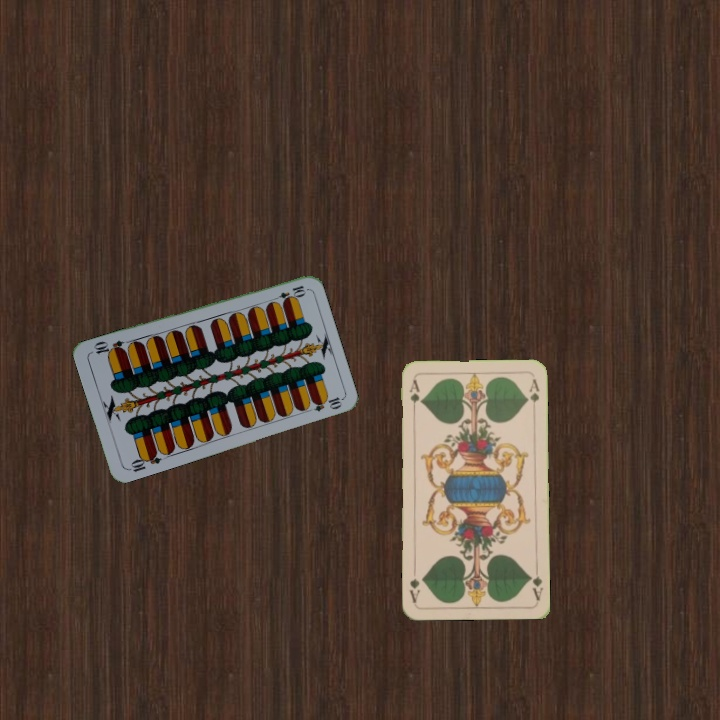E10: (124, 448, 164, 475), (268, 281, 308, 305)
GA: (526, 562, 545, 603), (405, 376, 422, 416)
